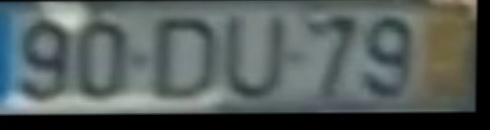0: (75, 18, 131, 103)
7: (306, 16, 359, 103)
9: (362, 13, 418, 102), (17, 18, 72, 106)
D: (152, 17, 223, 104)
U: (226, 14, 287, 104)
